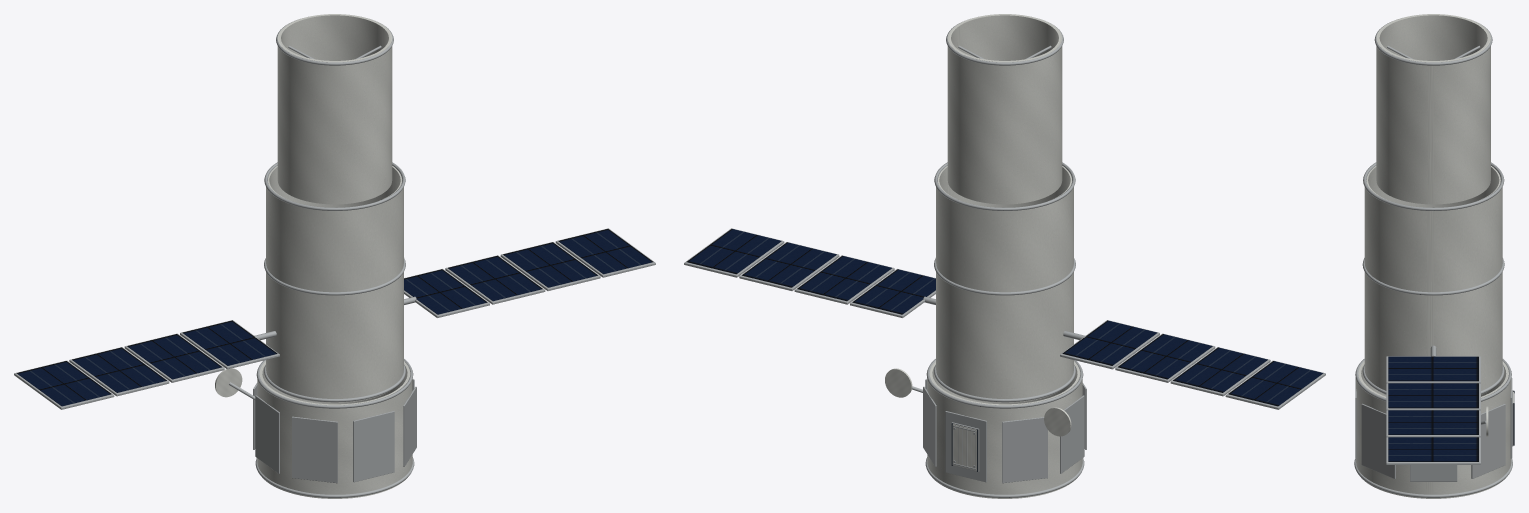
Rendered from space_telescope_base.glb.
3 renders of one model, left to right at view 1: azimuth 30°, elevation 25°; view 2: azimuth 150°, elevation 25°; view 3: azimuth 270°, elevation 25°, orthographic.
Parts seen in each view (by area): view 1: Telescope_EquipmentSection, Telescope_LightShield, Telescope_AftShroud, Instrument_BayPanel.005, Instrument_BayPanel.006, Array_Cells.001, Array_Cells.002, Array_Cells.005, Array_Cells, Array_Cells.003, Array_Cells.006, Array_Cells.007 (+5 smaller); view 2: Telescope_EquipmentSection, Telescope_LightShield, Telescope_AftShroud, Instrument_BayPanel.003, Array_Cells.001, Array_Cells.002, Array_Cells.005, Array_Cells, Array_Cells.003, Array_Cells.006, Array_Cells.007, Array_Cells.004 (+6 smaller); view 3: Telescope_EquipmentSection, Telescope_LightShield, Telescope_AftShroud, Array_Cells.004, Array_Cells.005, Array_Cells.006, Array_Cells.007, Instrument_BayPanel.007, Instrument_BayPanel.001, Instrument_BayPanel, Telescope_StructuralRim.004, Telescope_StructuralRim (+9 smaller).
Boxes of the visible parts, x1,y1,x2,y2 form: Telescope_EquipmentSection: (266,166,403,402); Telescope_LightShield: (277,14,392,204); Telescope_AftShroud: (257,361,412,498); Instrument_BayPanel.005: (292,416,337,483); Instrument_BayPanel.006: (353,411,394,482); Array_Cells.001: (127,334,221,379); Array_Cells.002: (72,347,166,392); Array_Cells.005: (448,255,542,301); Array_Cells: (182,320,277,365); Array_Cells.003: (16,361,111,406); Array_Cells.006: (503,242,597,287); Array_Cells.007: (558,229,652,274); Telescope_EquipmentSection: (936,166,1073,402); Telescope_LightShield: (947,14,1062,204); Telescope_AftShroud: (927,361,1082,498); Instrument_BayPanel.003: (1002,417,1047,483); Array_Cells.001: (1118,334,1212,379); Array_Cells.002: (1173,347,1267,392); Array_Cells.005: (797,255,891,301); Array_Cells: (1062,320,1157,365); Array_Cells.003: (1228,361,1323,406); Array_Cells.006: (742,242,836,287); Array_Cells.007: (687,229,781,274); Array_Cells.004: (852,269,935,314); Telescope_EquipmentSection: (1364,166,1502,394); Telescope_LightShield: (1376,14,1490,204); Telescope_AftShroud: (1356,361,1511,498); Array_Cells.004: (1388,356,1478,381); Array_Cells.005: (1388,383,1478,408); Array_Cells.006: (1388,410,1478,434); Array_Cells.007: (1388,437,1478,461); Instrument_BayPanel.007: (1361,403,1395,478); Instrument_BayPanel.001: (1471,403,1505,478); Instrument_BayPanel: (1410,465,1457,481); Telescope_StructuralRim.004: (1363,162,1504,210); Telescope_StructuralRim: (1354,458,1512,497).
Bounding box in the file's own units: 18.83 × 12.95 × 4.4.
Materials: 4 (2 with a texture image).
